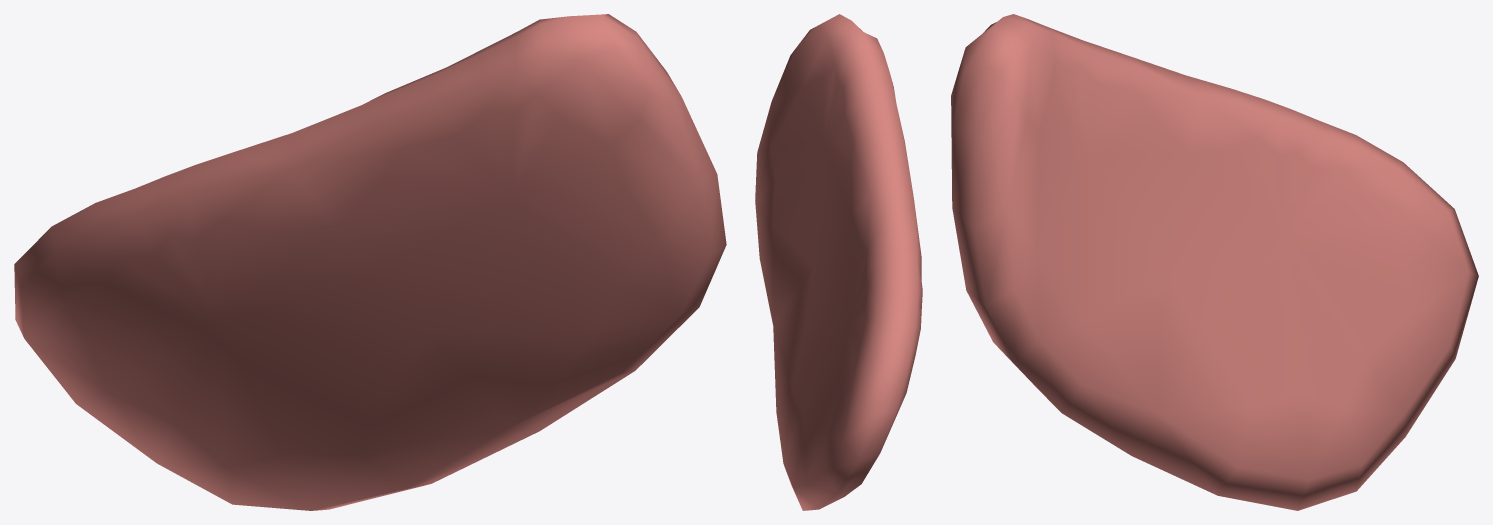
3 views of the same model, side by side, from view 1: azimuth 30°, elevation 25°; view 2: azimuth 150°, elevation 25°; view 3: azimuth 270°, elevation 25° (orthographic). The views are drawn at different scales.
Visible parts, largest first — view 1: ZA_59ed43e9347adb60; view 2: ZA_59ed43e9347adb60; view 3: ZA_59ed43e9347adb60.
Boxes of the visible parts, x1,y1,x2,y2 form: ZA_59ed43e9347adb60: (14, 14, 726, 510); ZA_59ed43e9347adb60: (755, 14, 922, 510); ZA_59ed43e9347adb60: (951, 14, 1478, 510).
Size of the model in its own units: 0.00276 by 0.00347 by 0.00314.
